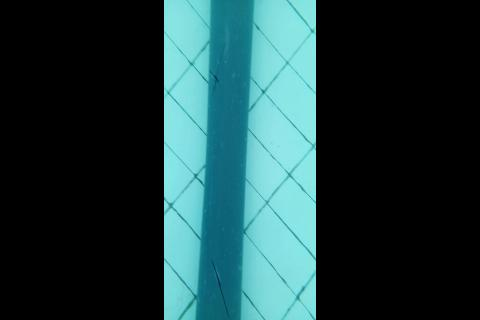keretakan: (211, 261, 230, 319), (209, 58, 220, 95)
